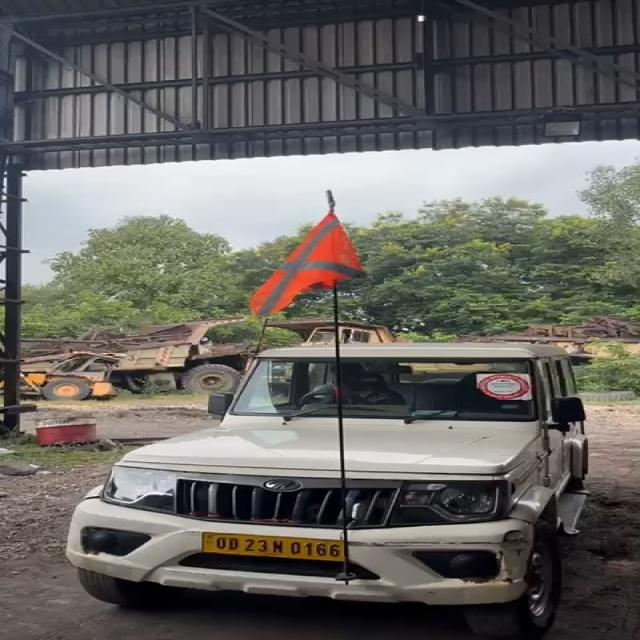light_vehicle: (55, 339, 586, 624)
